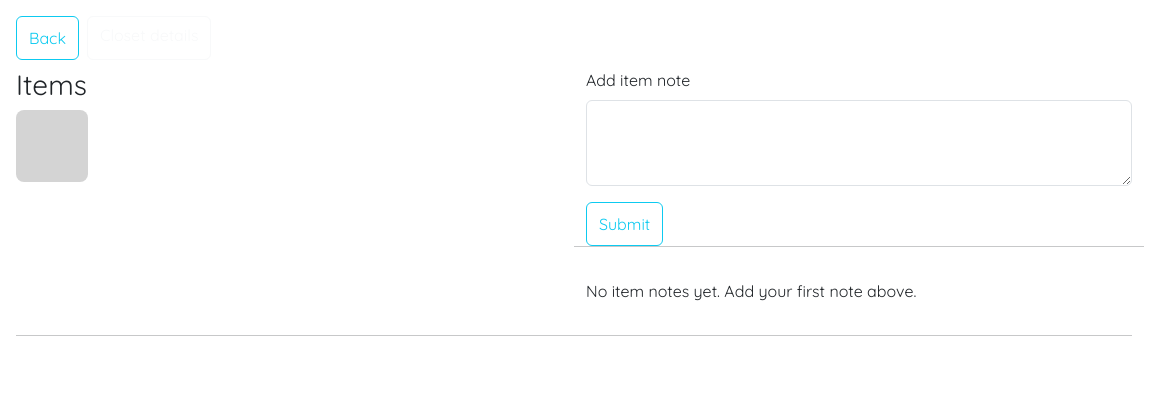
Coats › shows validation error when submitting an empty note
Click the button "Submit". click: coordinates (625, 224)
box: [586,202,663,246]
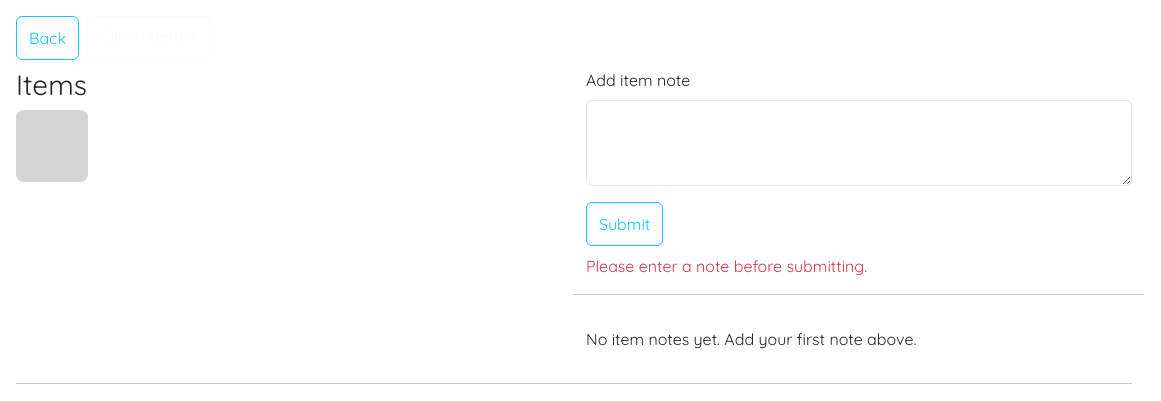
Expected: the text "Please enter a note before submitting." is shown, [586,256,867,276]
